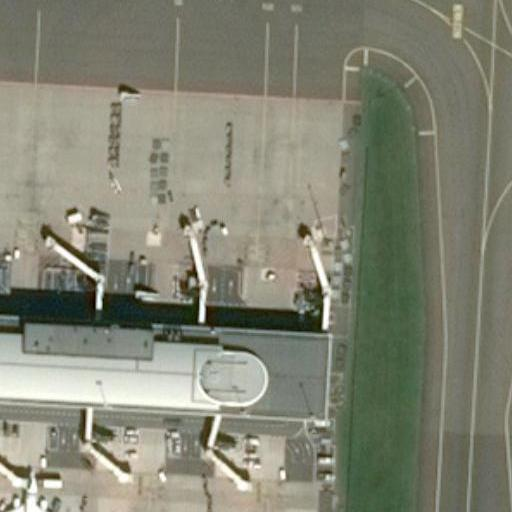Aircraft: (0, 456, 79, 512)
